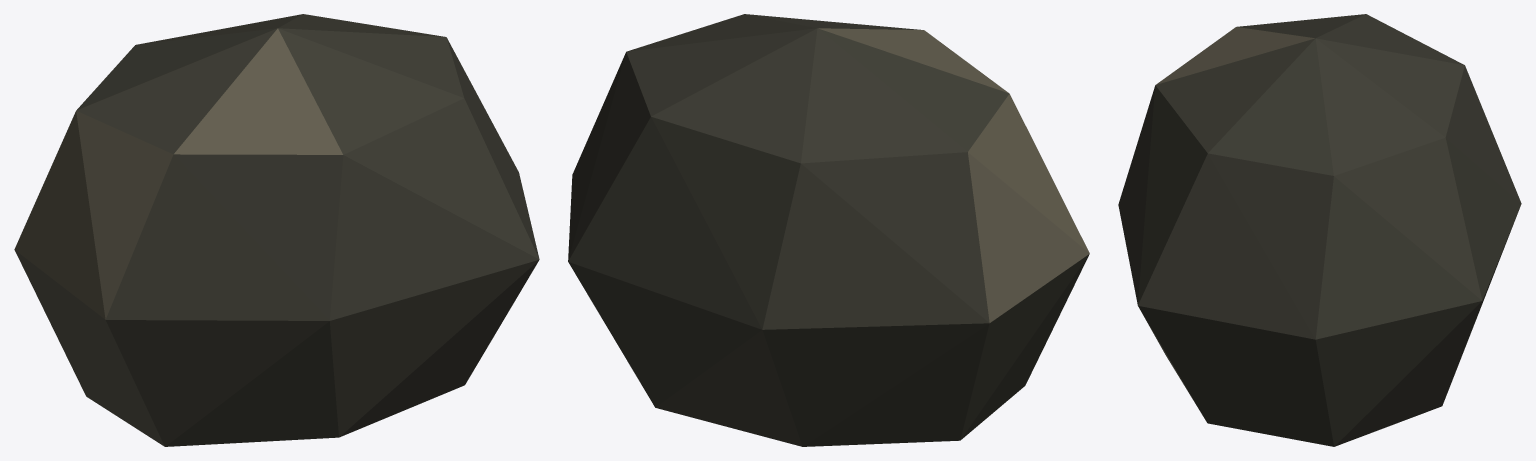
Rendered from Rock_Medium_03.fbx.
3 views of the same model, side by side, from view 1: azimuth 30°, elevation 25°; view 2: azimuth 150°, elevation 25°; view 3: azimuth 270°, elevation 25° (orthographic). The views are drawn at different scales.
Parts seen in each view (by area): view 1: Rock_Medium_03_Mesh; view 2: Rock_Medium_03_Mesh; view 3: Rock_Medium_03_Mesh.
Boxes of the visible parts, x1=… form: Rock_Medium_03_Mesh: x1=14, y1=14, x2=539, y2=446; Rock_Medium_03_Mesh: x1=568, y1=14, x2=1089, y2=446; Rock_Medium_03_Mesh: x1=1118, y1=14, x2=1521, y2=446.
Bounding box in the file's own units: 1.18 × 0.9912 × 0.9495.
1 material, 1 textured.
